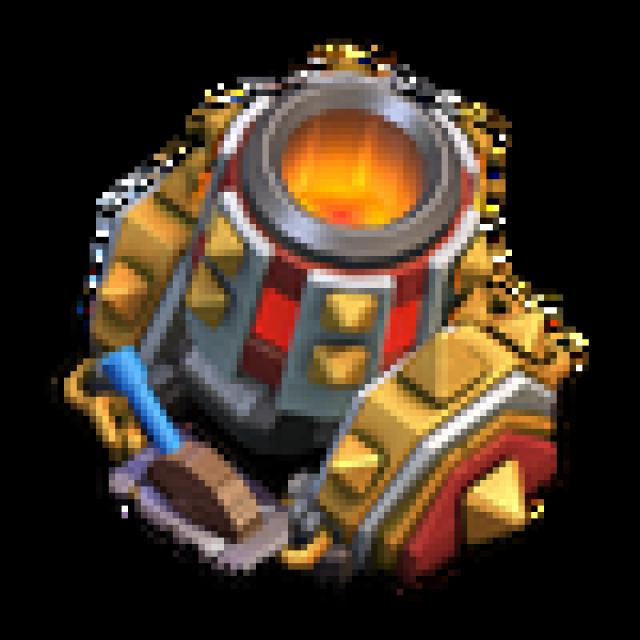mortar: (30, 30, 616, 610)
